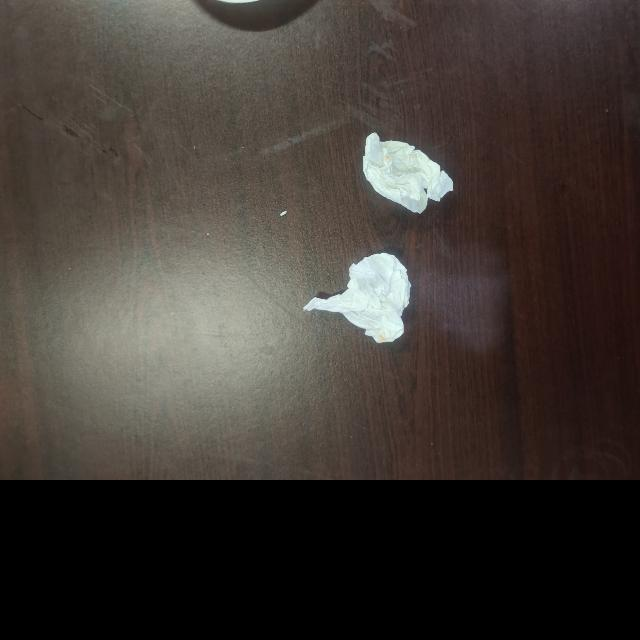kitchen paper: (297, 248, 415, 348), (360, 128, 458, 216)
